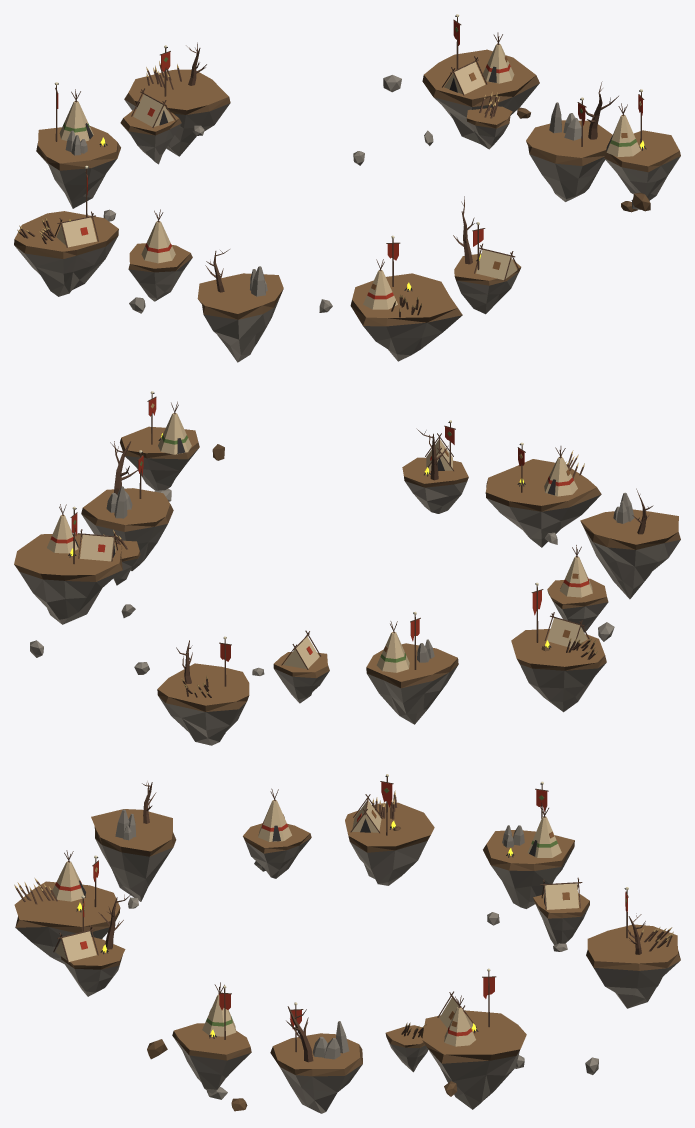
The model's file is Kriegslager_Backdrop.fbx.
The picture shows the model from 3 angles, top to bottom: view 1: azimuth 30°, elevation 25°; view 2: azimuth 150°, elevation 25°; view 3: azimuth 270°, elevation 25°; orthographic projection. The views are drawn at different scales.
Visible parts, largest first — view 1: Kriegslager_Backdrop; view 2: Kriegslager_Backdrop; view 3: Kriegslager_Backdrop.
Boxes of the visible parts, x1=… form: Kriegslager_Backdrop: x1=14, y1=14, x2=680, y2=362; Kriegslager_Backdrop: x1=14, y1=391, x2=680, y2=745; Kriegslager_Backdrop: x1=14, y1=774, x2=680, y2=1113.
Size of the model in its own units: 65.69 by 16.53 by 66.06.
